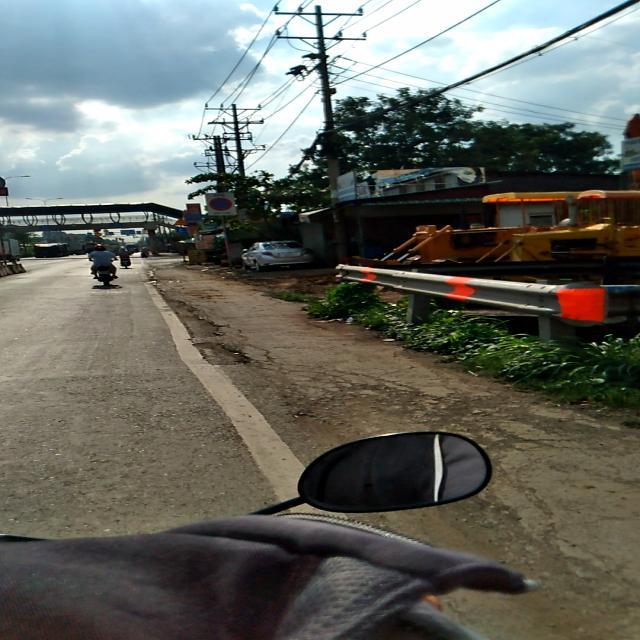P.130: (210, 197, 232, 211)
